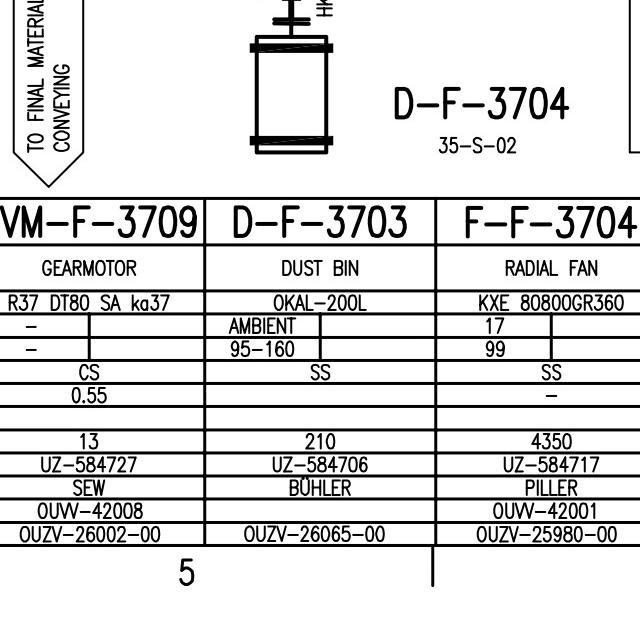D2: (243, 27, 343, 159)
